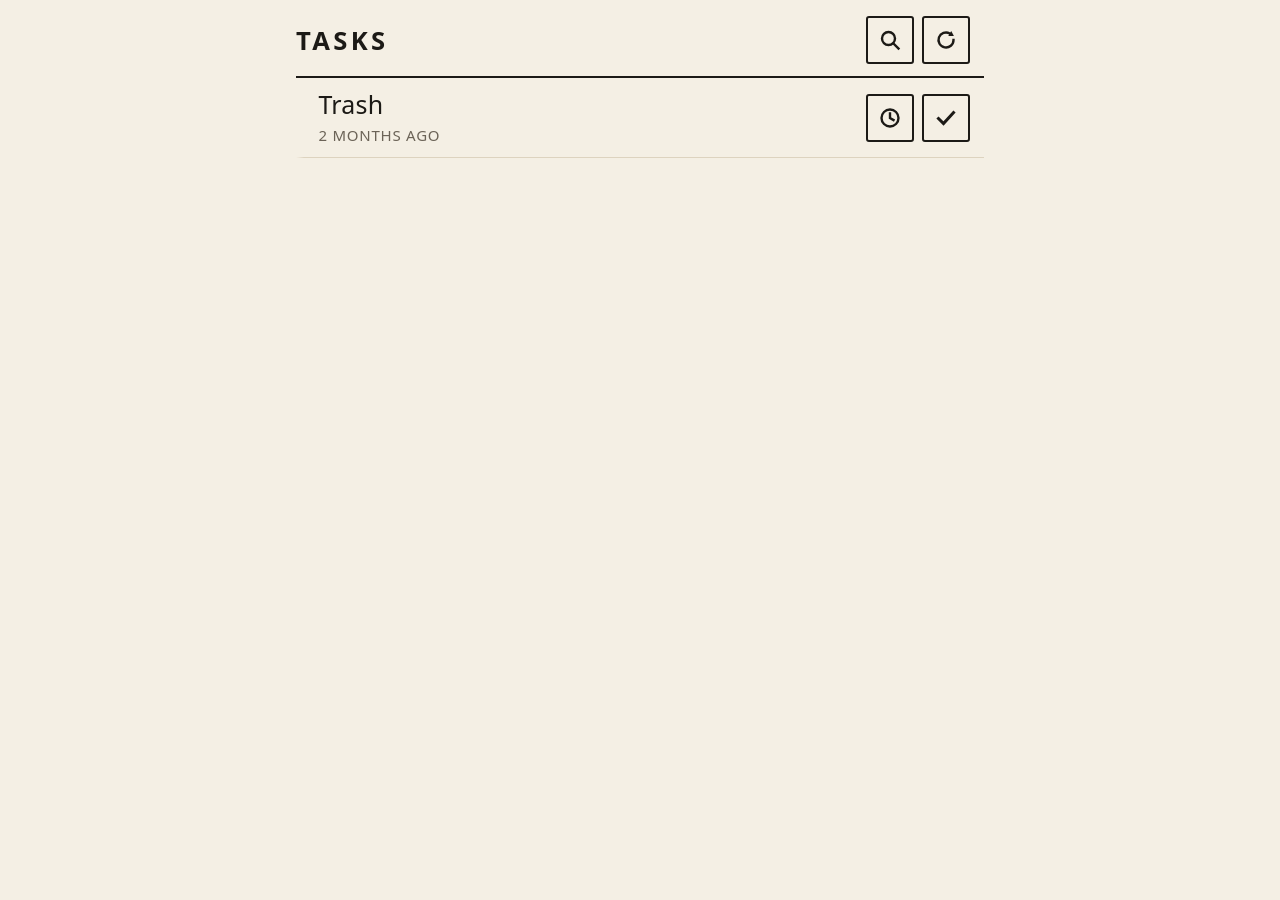
App › search › asks who did it on the public board, as the board does
This screenshot has width=1280, height=900.
Expected: the list item is shown, [296, 78, 984, 158]
Click the button named "Search tasks" at (890, 40), box [866, 16, 914, 64]
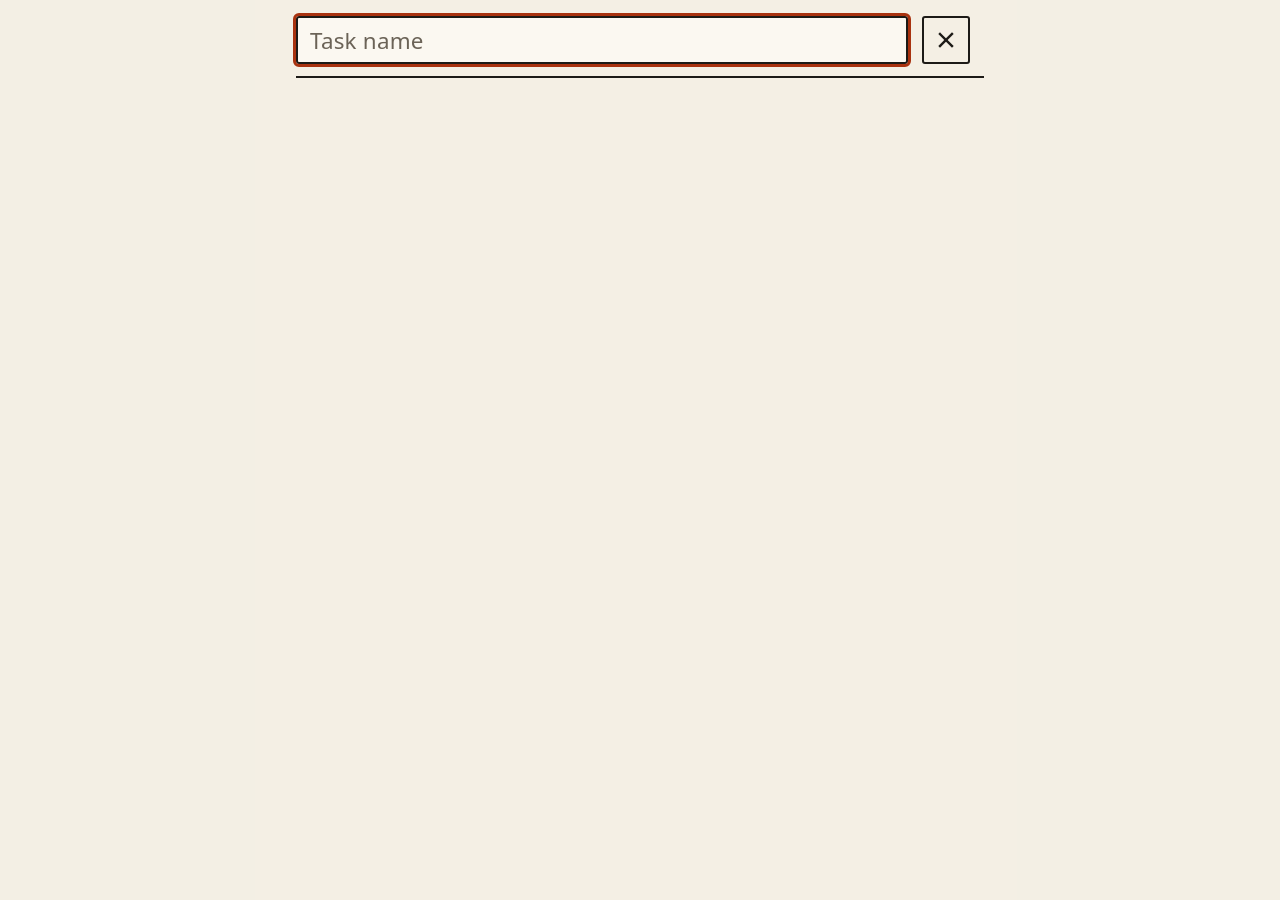
Type keys "trash"
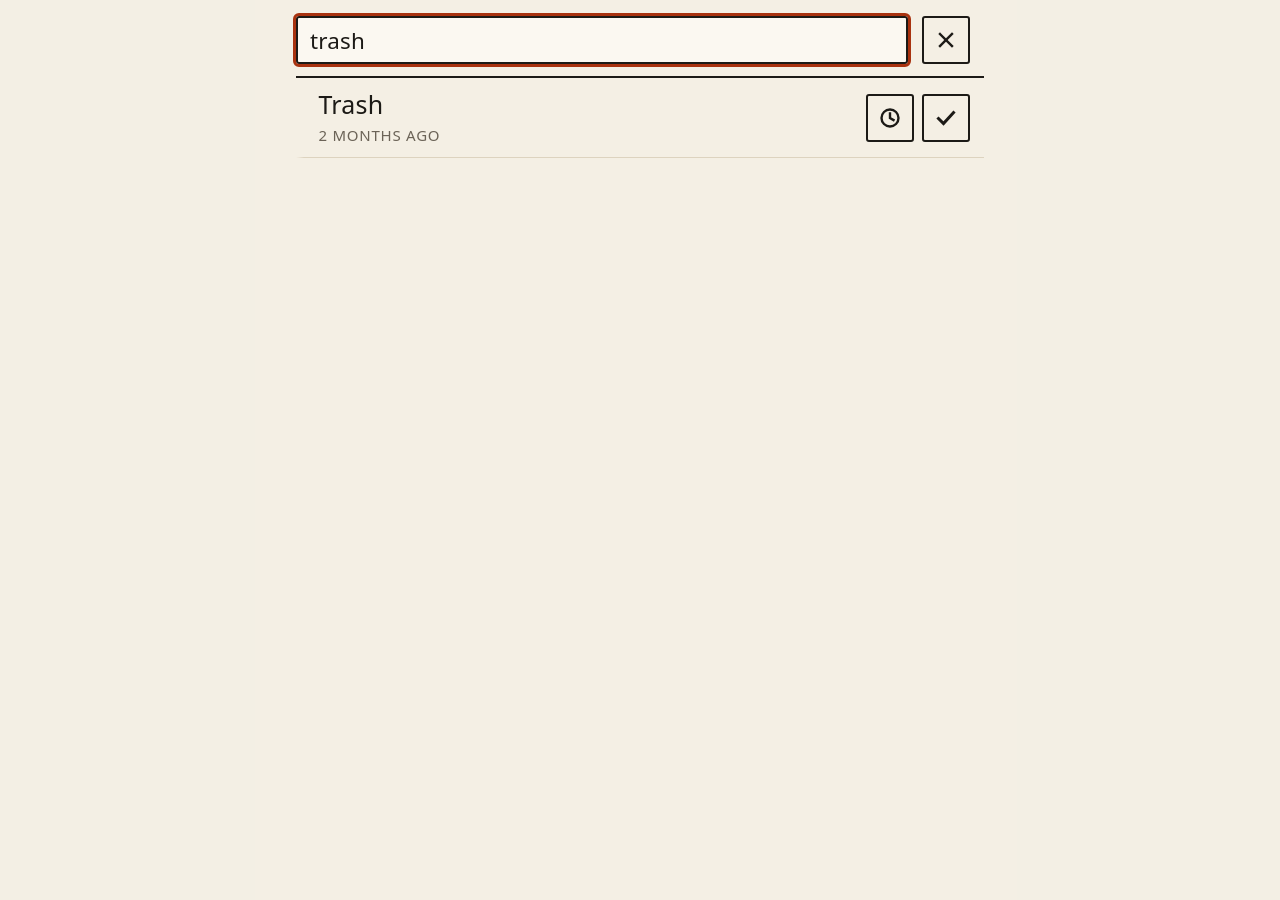
Click the button named "Mark Trash done" at (946, 118), box [922, 94, 970, 142]
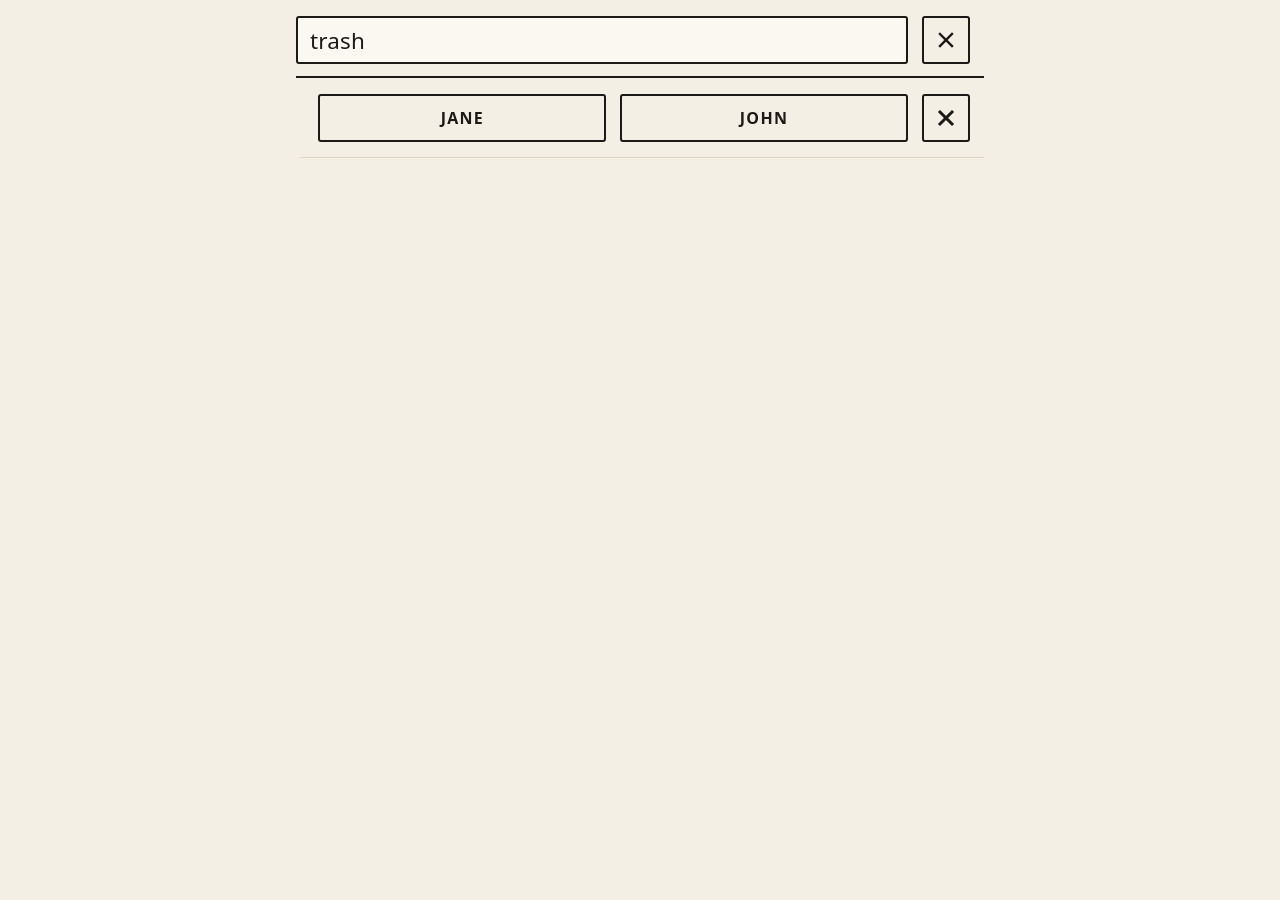
Click the button with aria-label "Mark Trash done as Jane" at (462, 118), box [318, 94, 606, 142]
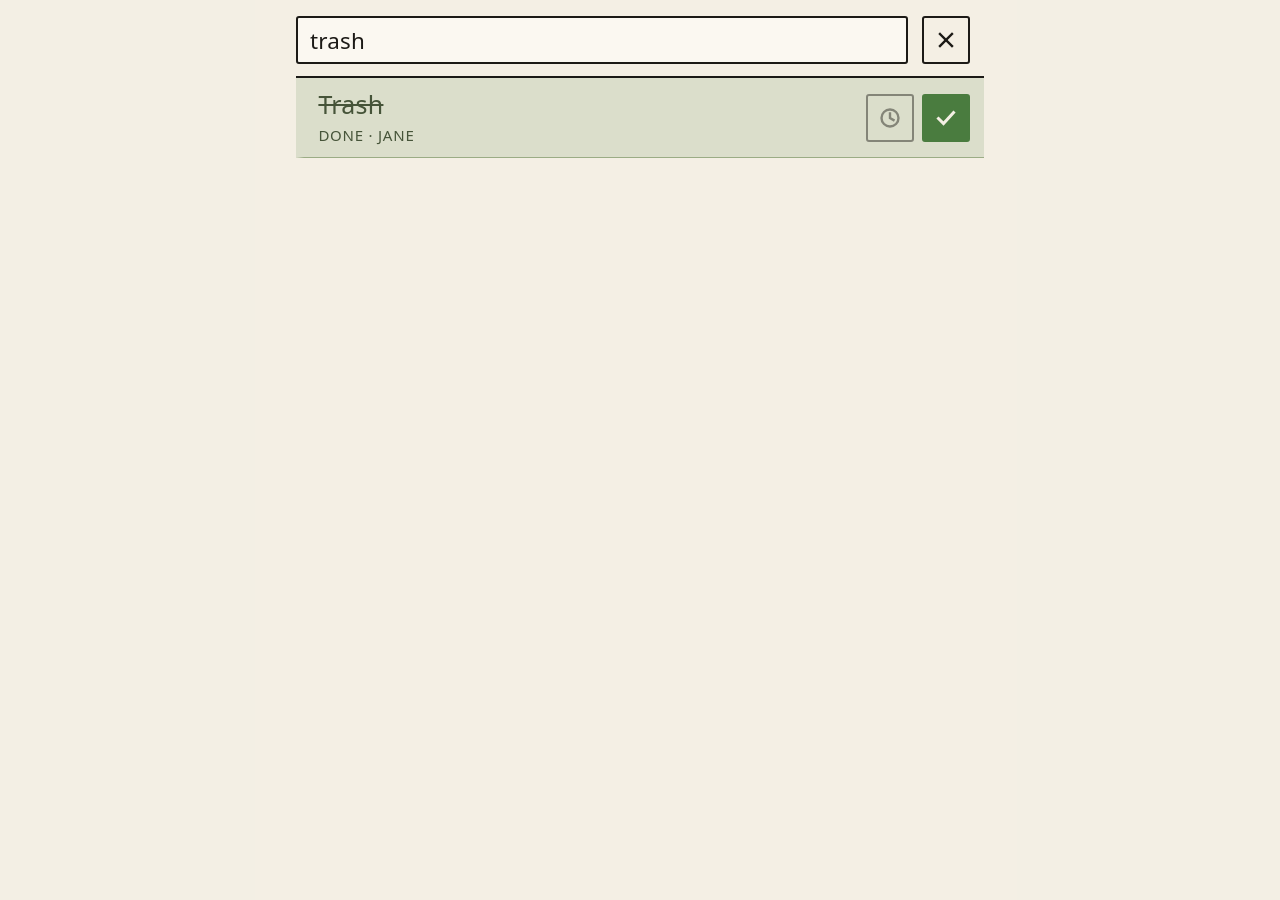
Now the text "Done · Jane" is shown, box [318, 125, 414, 145]
